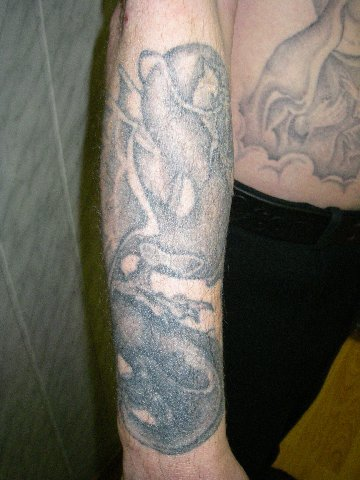tatu6_drakon: (99, 37, 273, 462)
